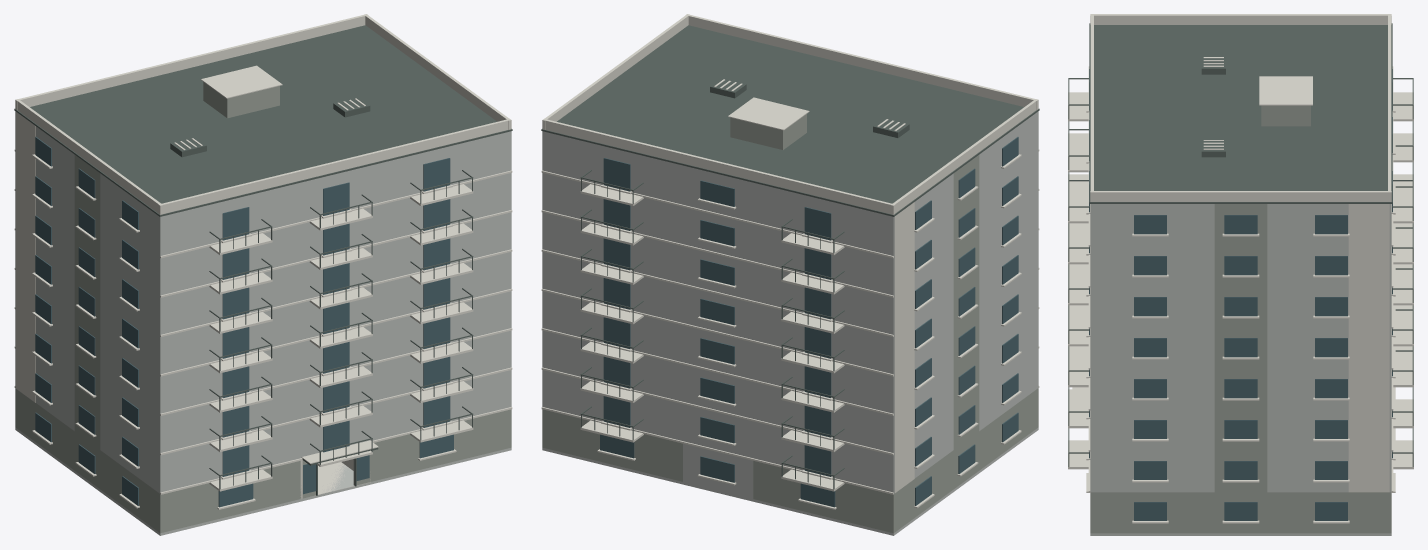
The model's file is midrise-8.glb.
3 views of the same model, side by side, from view 1: azimuth 30°, elevation 25°; view 2: azimuth 150°, elevation 25°; view 3: azimuth 270°, elevation 25° (orthographic). The views are drawn at different scales.
Visible parts, largest first — view 1: GC-MID-001-B-concrete, GC-MID-001-B-metal, GC-MID-001-B-offwhite, GC-MID-001-B-glass, GC-MID-001-B-sage; view 2: GC-MID-001-B-concrete, GC-MID-001-B-metal, GC-MID-001-B-offwhite, GC-MID-001-B-glass, GC-MID-001-B-sage; view 3: GC-MID-001-B-concrete, GC-MID-001-B-metal, GC-MID-001-B-offwhite, GC-MID-001-B-sage, GC-MID-001-B-glass.
Boxes of the visible parts, x1,y1,x2,y2 form: GC-MID-001-B-concrete: (15, 111, 511, 535); GC-MID-001-B-metal: (14, 25, 512, 495); GC-MID-001-B-offwhite: (14, 14, 512, 509); GC-MID-001-B-glass: (35, 137, 453, 507); GC-MID-001-B-sage: (15, 82, 511, 533); GC-MID-001-B-concrete: (542, 111, 1038, 535); GC-MID-001-B-metal: (541, 25, 1039, 489); GC-MID-001-B-offwhite: (541, 14, 1039, 509); GC-MID-001-B-glass: (600, 137, 1018, 507); GC-MID-001-B-sage: (542, 114, 1038, 533); GC-MID-001-B-concrete: (1090, 204, 1391, 535); GC-MID-001-B-metal: (1068, 23, 1413, 466); GC-MID-001-B-offwhite: (1068, 14, 1413, 523); GC-MID-001-B-sage: (1090, 105, 1391, 533); GC-MID-001-B-glass: (1089, 69, 1392, 520).
Size of the model in its own units: 28.53 by 26.07 by 22.94.
